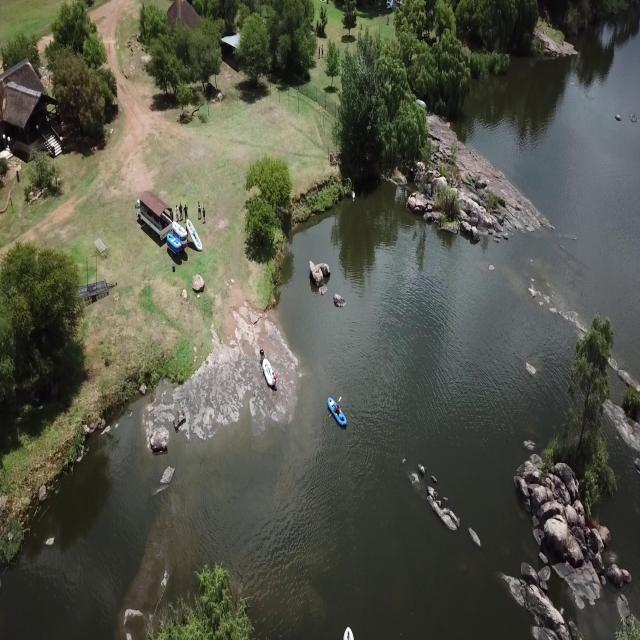kayak: (326, 391, 348, 433)
